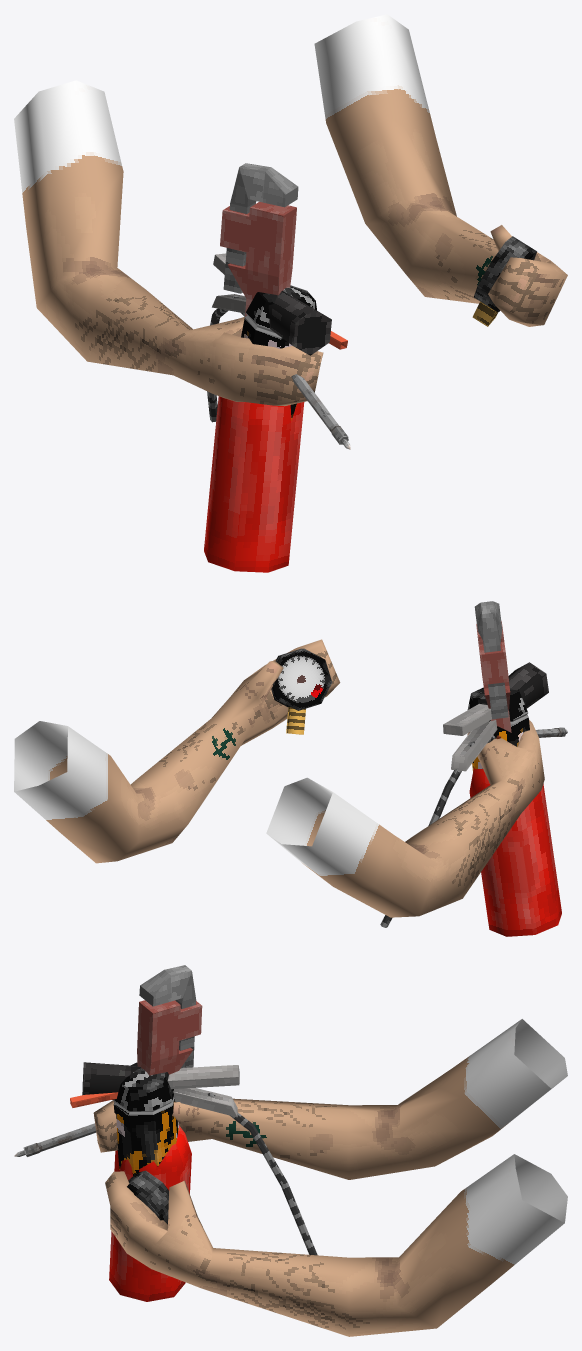
The model's file is arms.glb.
The picture shows the model from 3 angles, top to bottom: view 1: azimuth 30°, elevation 25°; view 2: azimuth 150°, elevation 25°; view 3: azimuth 270°, elevation 25°; orthographic projection. The views are drawn at different scales.
Visible parts, largest first — view 1: arms, arm_altimeter, Cylinder, Cube, Cylinder.001, pressure_gauge, Cube.001; view 2: arm_altimeter, arms, Cylinder, pressure_gauge, Cube, Cylinder.001, Cube.001; view 3: arm_altimeter, arms, Cylinder, Cube, Cylinder.001, Cube.001, pressure_gauge.
Boxes of the visible parts, <box> form: arms: <box>14,80,323,406</box>; arm_altimeter: <box>314,14,567,326</box>; Cylinder: <box>204,253,331,572</box>; Cube: <box>220,163,298,316</box>; Cylinder.001: <box>241,285,347,420</box>; pressure_gauge: <box>472,236,536,326</box>; Cube.001: <box>207,296,350,449</box>; arm_altimeter: <box>14,639,340,863</box>; arms: <box>266,720,544,917</box>; Cylinder: <box>443,662,561,936</box>; pressure_gauge: <box>271,648,332,734</box>; Cube: <box>474,601,511,732</box>; Cylinder.001: <box>467,687,529,771</box>; Cube.001: <box>380,727,567,927</box>; arm_altimeter: <box>105,1154,567,1336</box>; arms: <box>93,1019,567,1179</box>; Cylinder: <box>82,1062,239,1301</box>; Cube: <box>137,965,202,1075</box>; Cylinder.001: <box>70,1062,179,1175</box>; Cube.001: <box>14,1093,317,1255</box>; pressure_gauge: <box>127,1170,168,1224</box>.
Bounding box in the file's own units: 0.717 × 0.6145 × 0.9399.
6 materials, 6 textured.
